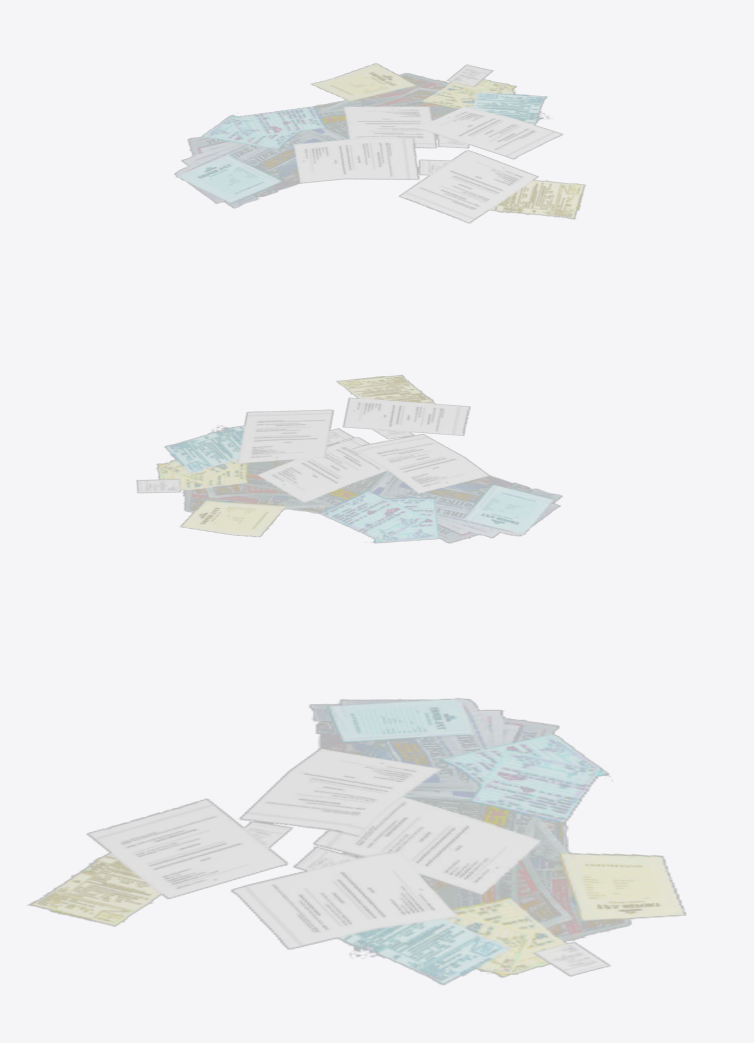
Rendered from paper.glb.
3 renders of one model, top to bottom at view 1: azimuth 30°, elevation 25°; view 2: azimuth 150°, elevation 25°; view 3: azimuth 270°, elevation 25°, orthographic. The views are drawn at different scales.
Parts seen in each view (by area): view 1: PaperDecal3_2_PaperDecals_0; view 2: PaperDecal3_2_PaperDecals_0; view 3: PaperDecal3_2_PaperDecals_0.
Boxes of the visible parts, x1,y1,x2,y2 form: PaperDecal3_2_PaperDecals_0: (174,63,585,223); PaperDecal3_2_PaperDecals_0: (136,375,562,543); PaperDecal3_2_PaperDecals_0: (28,698,686,984).
Bounding box in the file's own units: 2.49 × 0.0975 × 2.03.
Materials: 1 (1 with a texture image).
